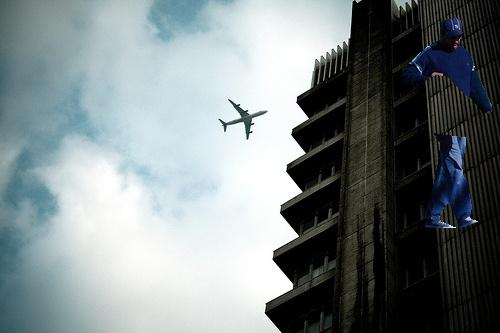tampered: (403, 19, 492, 228)
